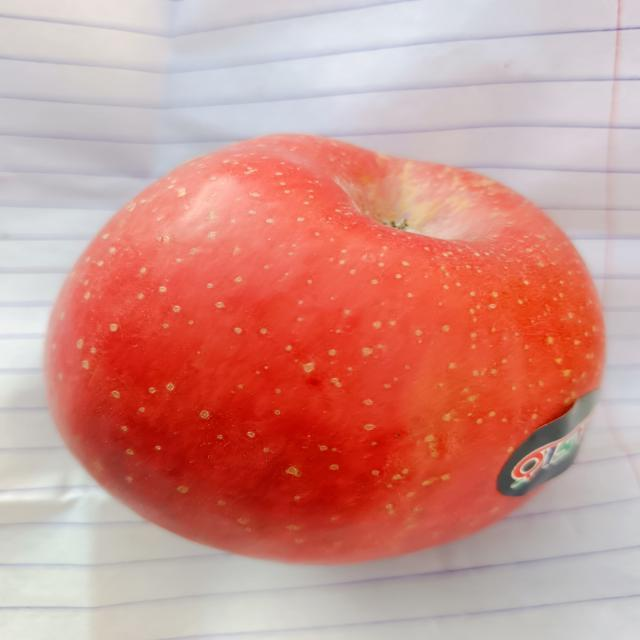Fresh Apple: (64, 145, 594, 595)
